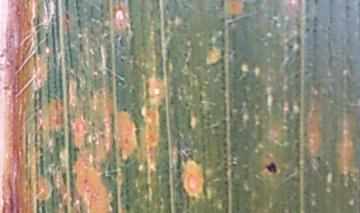tarspot: (265, 161, 278, 173), (72, 146, 81, 162), (313, 154, 321, 162), (83, 177, 89, 186), (119, 56, 125, 64), (121, 106, 127, 113), (312, 1, 318, 6)
